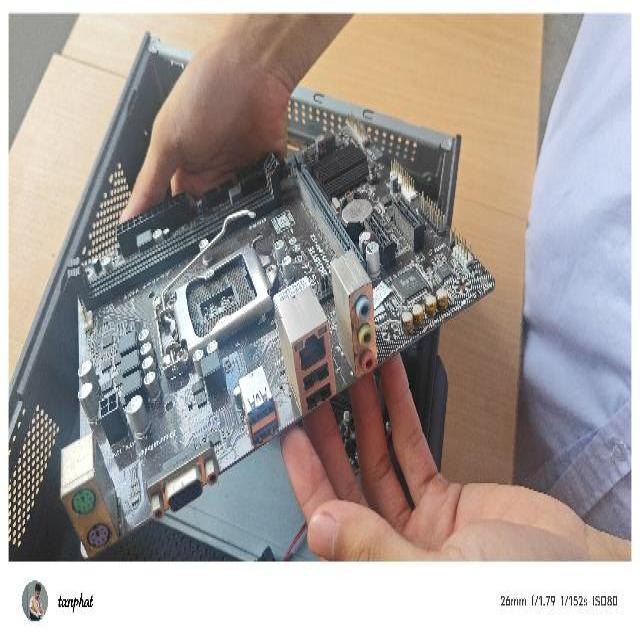Mainboard: (29, 109, 498, 562)
